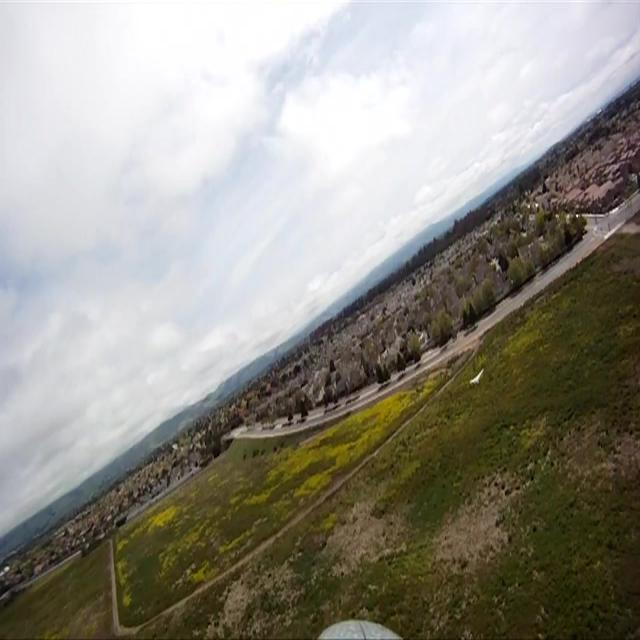iha: (466, 366, 486, 388)
